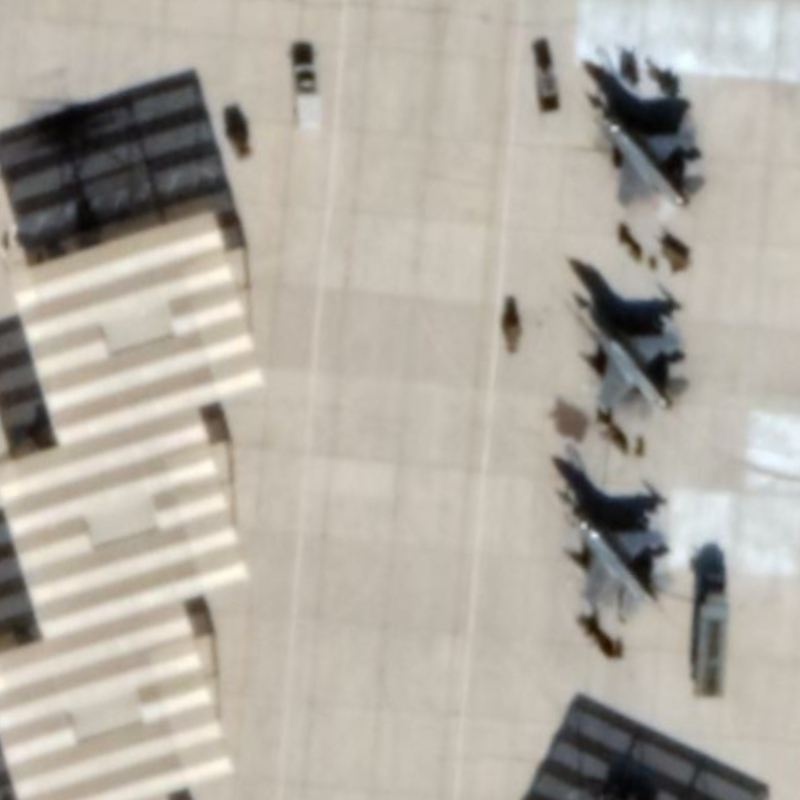A5: (546, 478, 676, 628), (579, 83, 712, 222), (561, 291, 695, 423)
